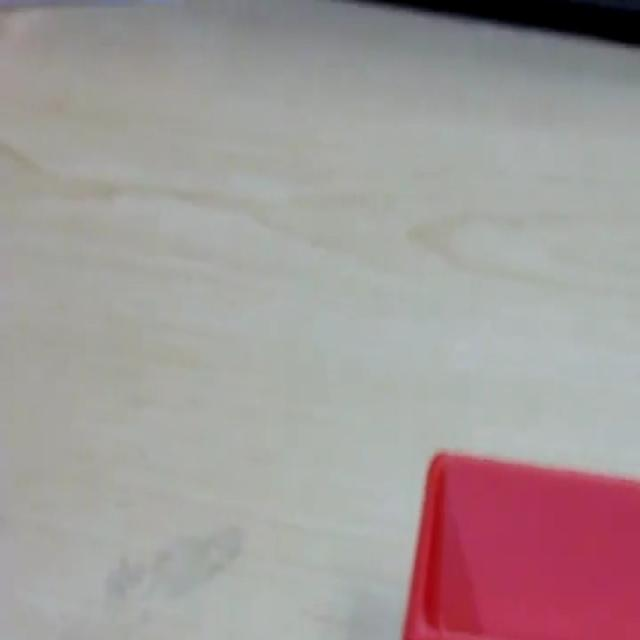red_block: (401, 446, 638, 638)
